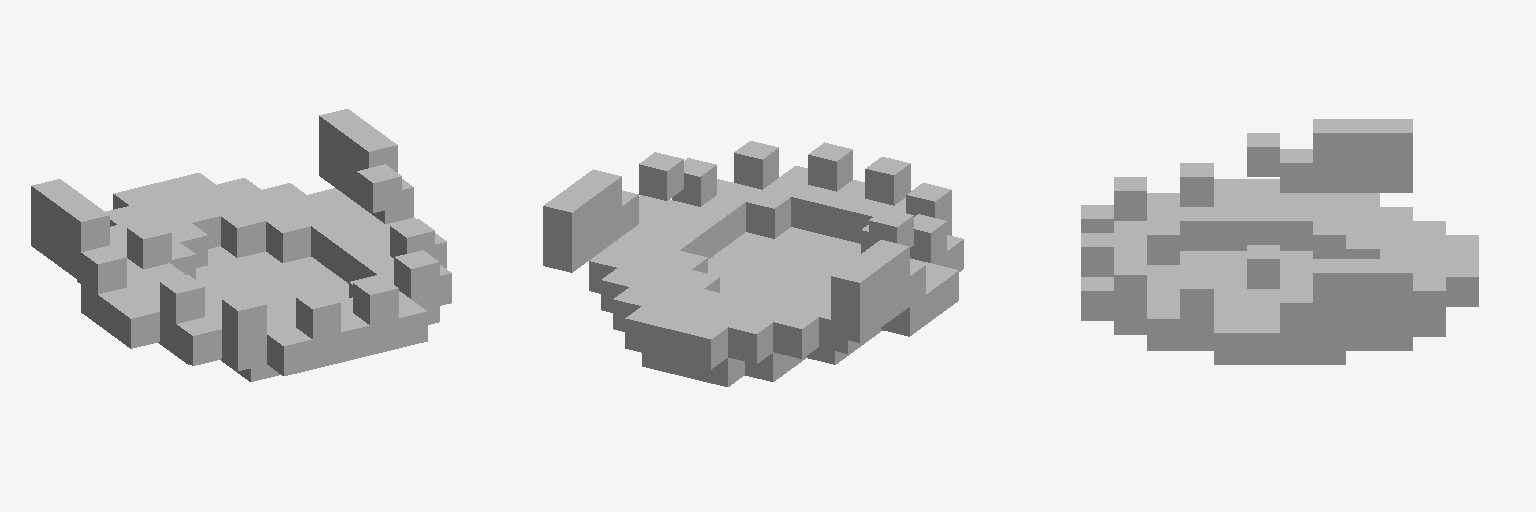
File: Angler Fish bottom mouth.obj
3 views of the same model, side by side, from view 1: azimuth 30°, elevation 25°; view 2: azimuth 150°, elevation 25°; view 3: azimuth 270°, elevation 25° (orthographic).
Bounding box in the file's own units: 11 × 4 × 12.